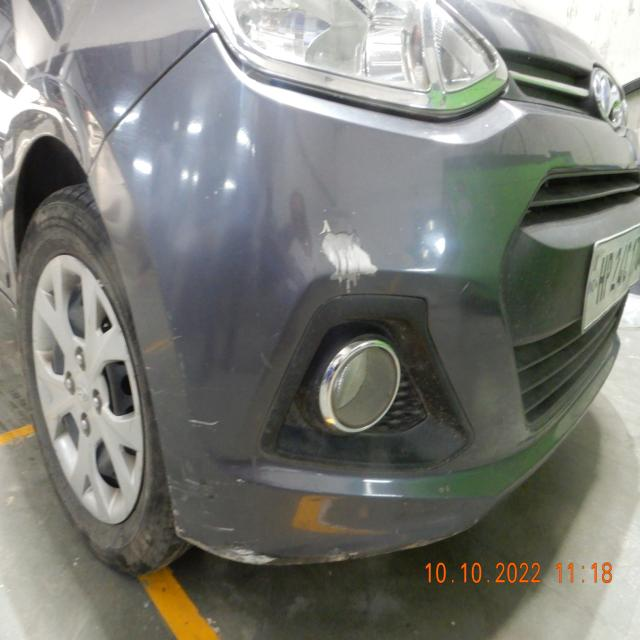damage: (189, 516, 290, 573), (322, 221, 381, 295)
